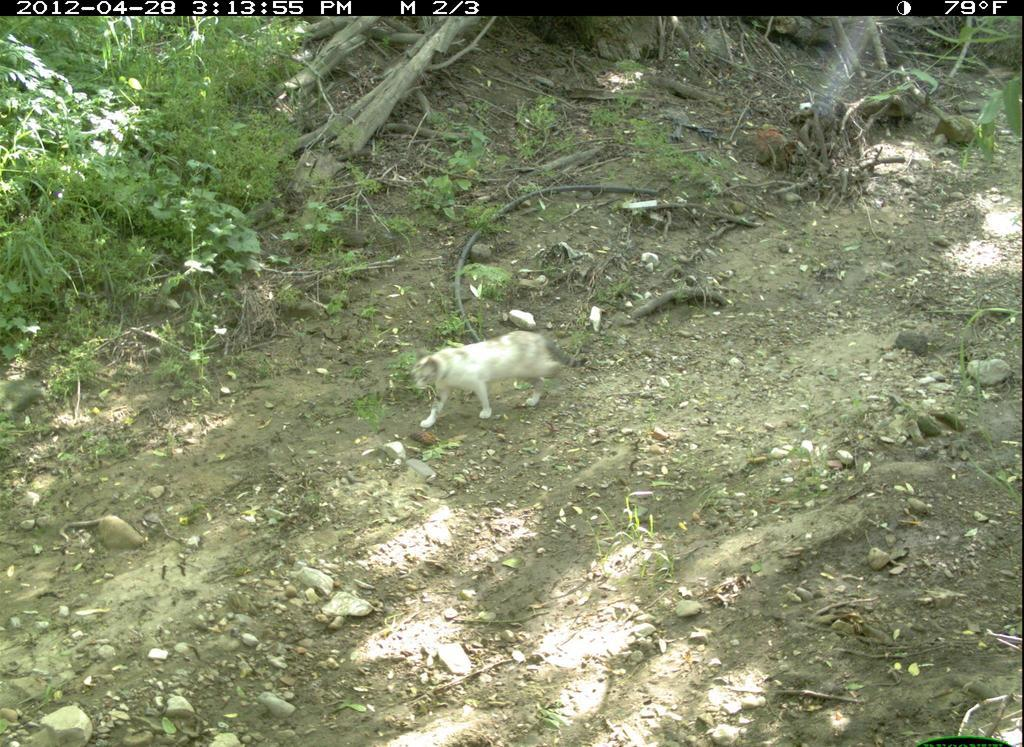cat: (399, 310, 602, 446)
